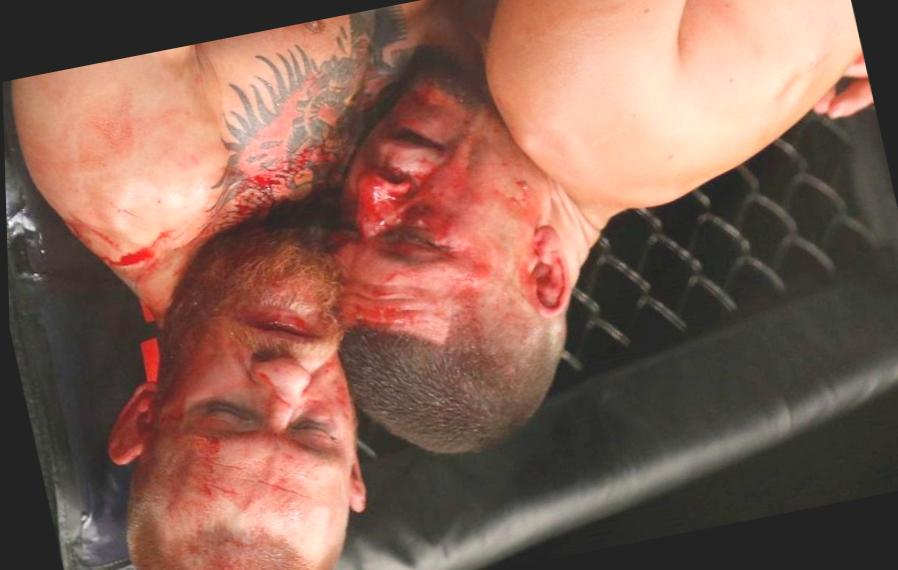Fire: (105, 235, 363, 569), (330, 75, 569, 345), (198, 86, 375, 236), (48, 163, 172, 316)
